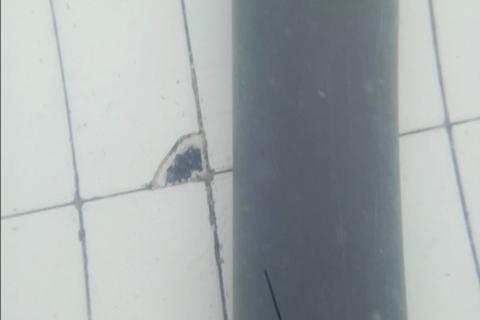keretakan: (263, 269, 283, 319)
